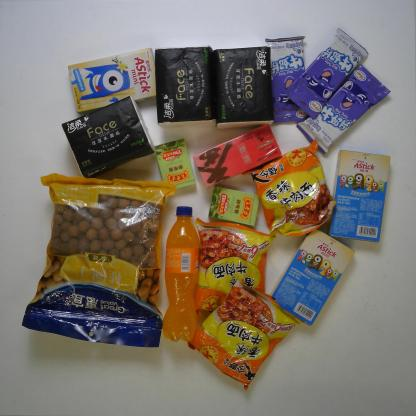Candy: (296, 65, 391, 153), (284, 28, 368, 120), (265, 36, 315, 123), (153, 138, 196, 191), (209, 186, 262, 227)
Dessert: (269, 225, 355, 329), (68, 47, 164, 114), (328, 150, 391, 243)
Dried Food: (21, 172, 176, 348)
Drink: (162, 207, 201, 343)
Instant Drink: (194, 124, 282, 188)
Instant Noodles: (186, 277, 300, 391), (241, 139, 337, 236), (194, 215, 274, 320)
Tissue: (62, 95, 155, 177), (155, 44, 215, 126), (215, 47, 274, 130)
